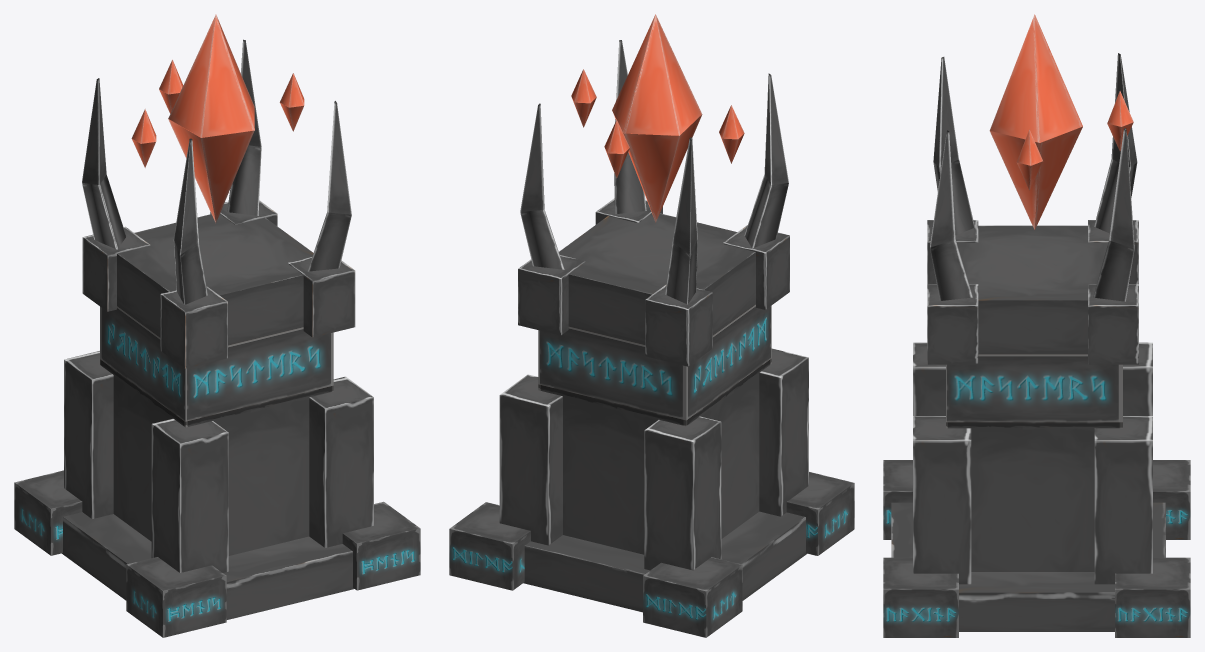
The model's file is magic_4.FBX.
3 renders of one model, left to right at view 1: azimuth 30°, elevation 25°; view 2: azimuth 150°, elevation 25°; view 3: azimuth 270°, elevation 25°, orthographic. The views are drawn at different scales.
Visible parts, largest first — view 1: Box576, Cone040, Cone039, Cone042, Cone041; view 2: Box576, Cone040, Cone042, Cone041, Cone039; view 3: Box576, Cone040, Cone042, Cone041.
Part boxes in pixels (left/top/right/bottom): Box576: left=14, top=39, right=420, bottom=637; Cone040: left=168, top=14, right=254, bottom=222; Cone039: left=131, top=109, right=156, bottom=167; Cone042: left=279, top=73, right=304, bottom=131; Cone041: left=159, top=59, right=183, bottom=113; Box576: left=449, top=40, right=854, bottom=637; Cone040: left=612, top=14, right=702, bottom=222; Cone042: left=571, top=69, right=596, bottom=127; Cone041: left=604, top=120, right=629, bottom=178; Cone039: left=719, top=105, right=744, bottom=163; Box576: left=883, top=53, right=1190, bottom=637; Cone040: left=989, top=14, right=1082, bottom=229; Cone042: left=1016, top=129, right=1042, bottom=190; Cone041: left=1107, top=91, right=1133, bottom=151.
Size of the model in its own units: 44.79 by 89.97 by 44.81.
